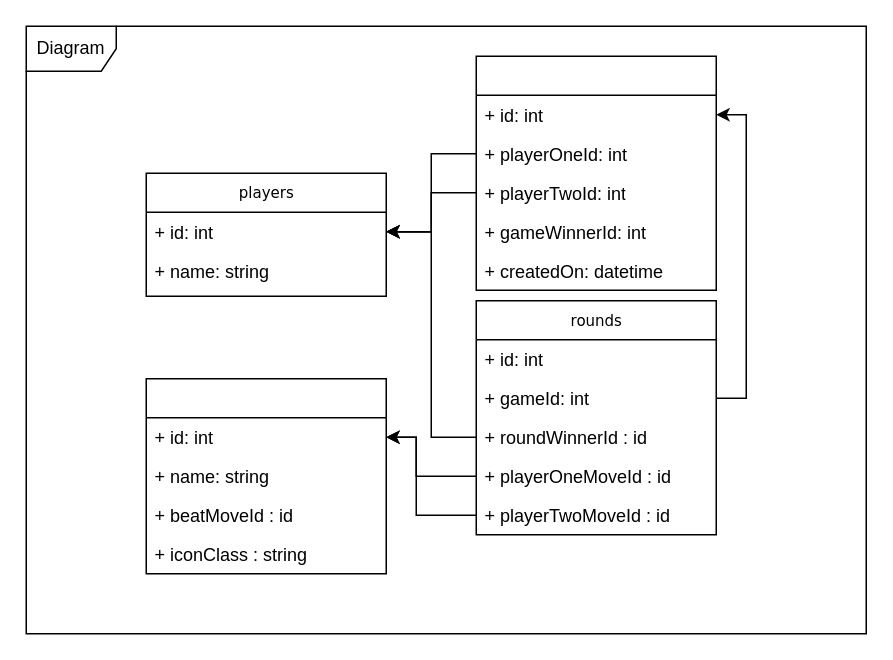
Image size: 893x660. Some labels were removed from this diagram. The box of each missing label's shape, as (x1, y1, x2, y2) in pixels:
games: (475, 55, 716, 290)
moves: (145, 377, 386, 574)
